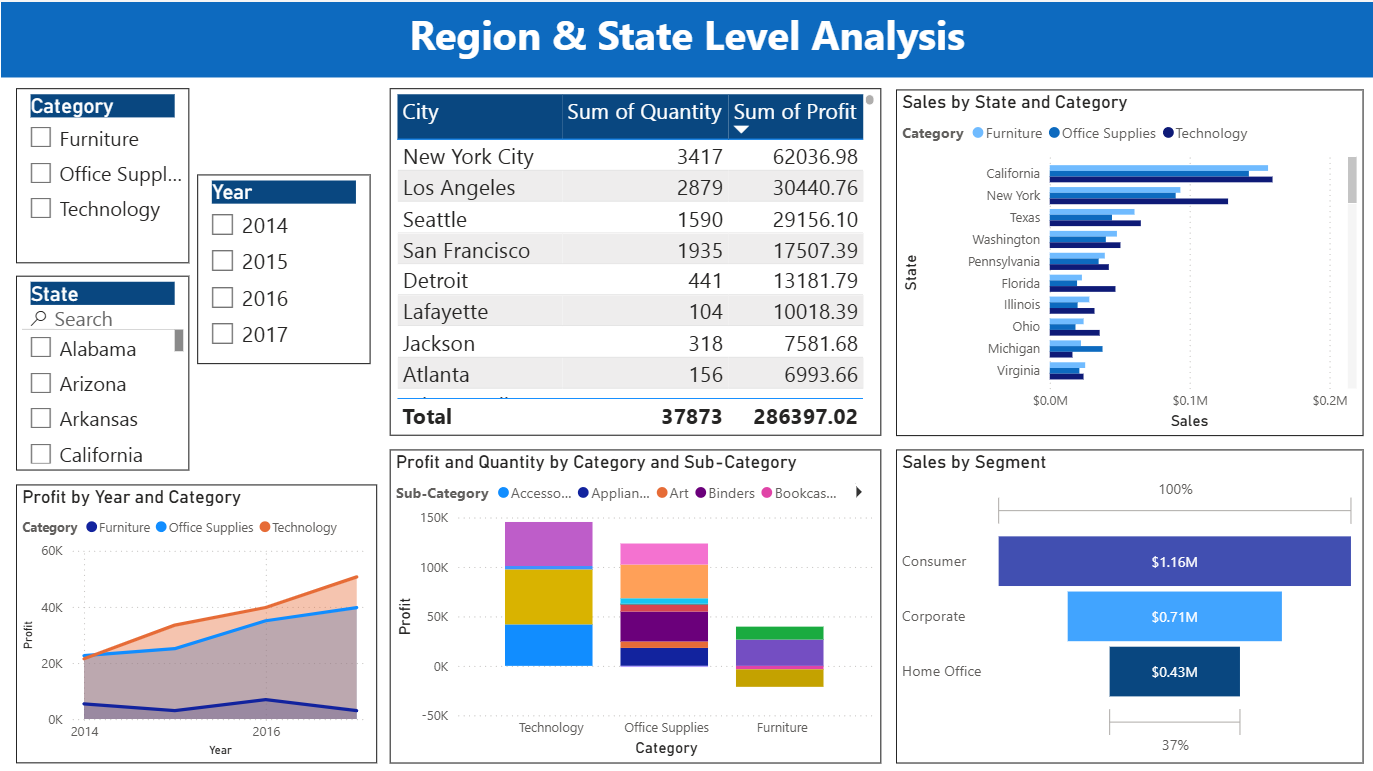

What the dashboard file says about the page in this screenshot:
{"tool":"powerbi","page":{"name":"Region & State","canvas":[1280,720],"ordinal":1},"visuals":[{"type":"textbox","box":[0,0,1280,70],"z":0},{"type":"slicer","fields":{"Values":["Sample - Superstore.Category"]},"box":[14.3,80,161.4,162.9],"z":1000},{"type":"slicer","fields":{"Values":["Sample - Superstore.State"]},"box":[14.3,255.7,161.4,181.4],"z":2000},{"type":"tableEx","fields":{"Values":["Sample - Superstore.City","Sum(Sample - Superstore.Quantity)","Sum(Sample - Superstore.Profit)"]},"box":[362.9,80,458.6,324.3],"z":3000},{"type":"clusteredBarChart","fields":{"Category":["Sample - Superstore.State"],"Y":["Sum(Sample - Superstore.Sales)"],"Series":["Sample - Superstore.Category"]},"box":[834.3,81.4,435.7,322.9],"z":4000},{"type":"slicer","fields":{"Values":["Sample - Superstore.Year"]},"box":[182.9,161.4,161.4,177.1],"z":5000},{"type":"areaChart","fields":{"Y":["Sum(Sample - Superstore.Profit)"],"Category":["Sample - Superstore.Year"],"Series":["Sample - Superstore.Category"]},"box":[14.3,450,337.1,260],"z":6000},{"type":"lineStackedColumnComboChart","fields":{"Category":["Sample - Superstore.Category"],"Y":["Sum(Sample - Superstore.Profit)"],"Series":["Sample - Superstore.Sub-Category"]},"box":[362.9,417.1,458.6,292.9],"z":7000},{"type":"funnel","fields":{"Category":["Sample - Superstore.Segment"],"Y":["Sum(Sample - Superstore.Sales)"]},"box":[834.3,417.1,435.7,292.9],"z":8000}]}

Visuals, with their boxes in screenshot pixels (x1, y1, x2, y2), scaled from the page's 1280x720 canvas onto the 1373x771 screenshot:
textbox: rect(0, 0, 1372, 75)
slicer - Sample - Superstore.Category: rect(15, 86, 188, 260)
slicer - Sample - Superstore.State: rect(15, 274, 188, 468)
tableEx - Sample - Superstore.City x Sum(Sample - Superstore.Quantity): rect(389, 86, 881, 433)
clusteredBarChart - Sample - Superstore.State x Sum(Sample - Superstore.Sales): rect(895, 87, 1362, 433)
slicer - Sample - Superstore.Year: rect(196, 173, 369, 362)
areaChart - Sum(Sample - Superstore.Profit) x Sample - Superstore.Year: rect(15, 482, 377, 760)
lineStackedColumnComboChart - Sample - Superstore.Category x Sum(Sample - Superstore.Profit): rect(389, 447, 881, 760)
funnel - Sample - Superstore.Segment x Sum(Sample - Superstore.Sales): rect(895, 447, 1362, 760)
